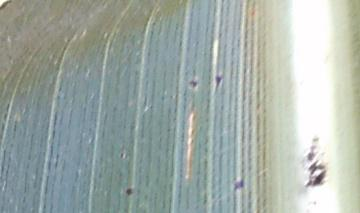tarspot: (304, 135, 327, 190), (213, 71, 224, 92), (231, 176, 245, 191), (187, 77, 198, 91), (123, 186, 135, 198), (120, 151, 125, 159)
